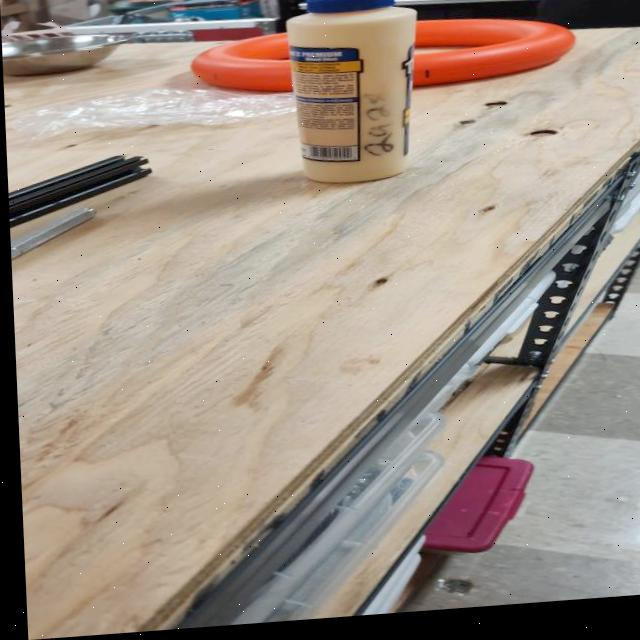note: (191, 12, 577, 110)
